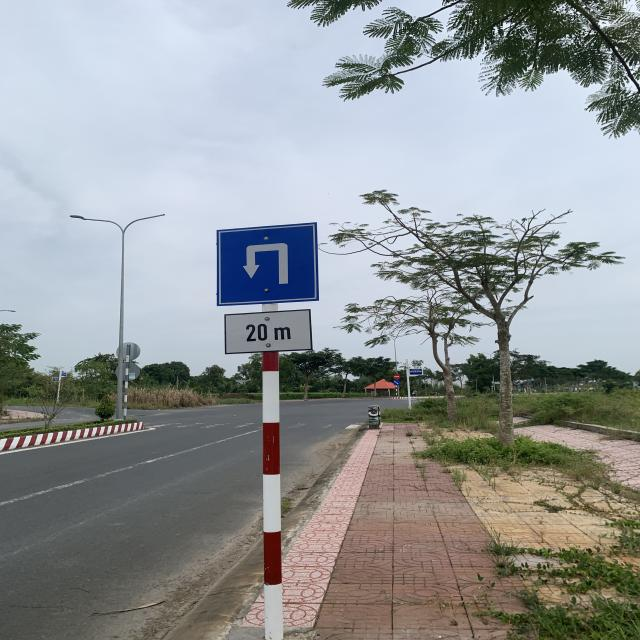Den_Giao_Thong: (216, 224, 319, 306)
